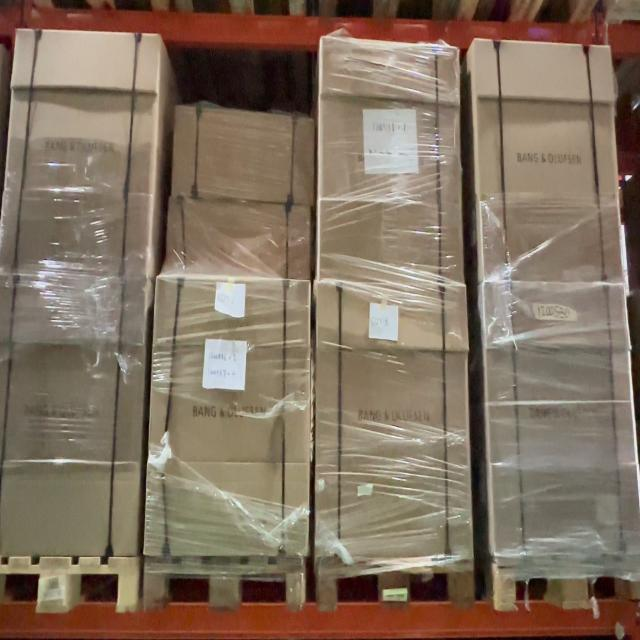box: (142, 281, 311, 560), (476, 280, 640, 560), (315, 283, 474, 557), (0, 29, 161, 279), (472, 39, 625, 288), (315, 36, 463, 286), (172, 105, 315, 204), (160, 197, 312, 281)
